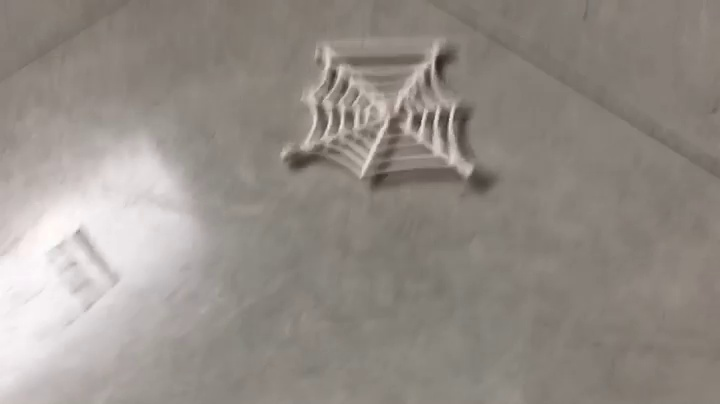web: (280, 34, 497, 195)
